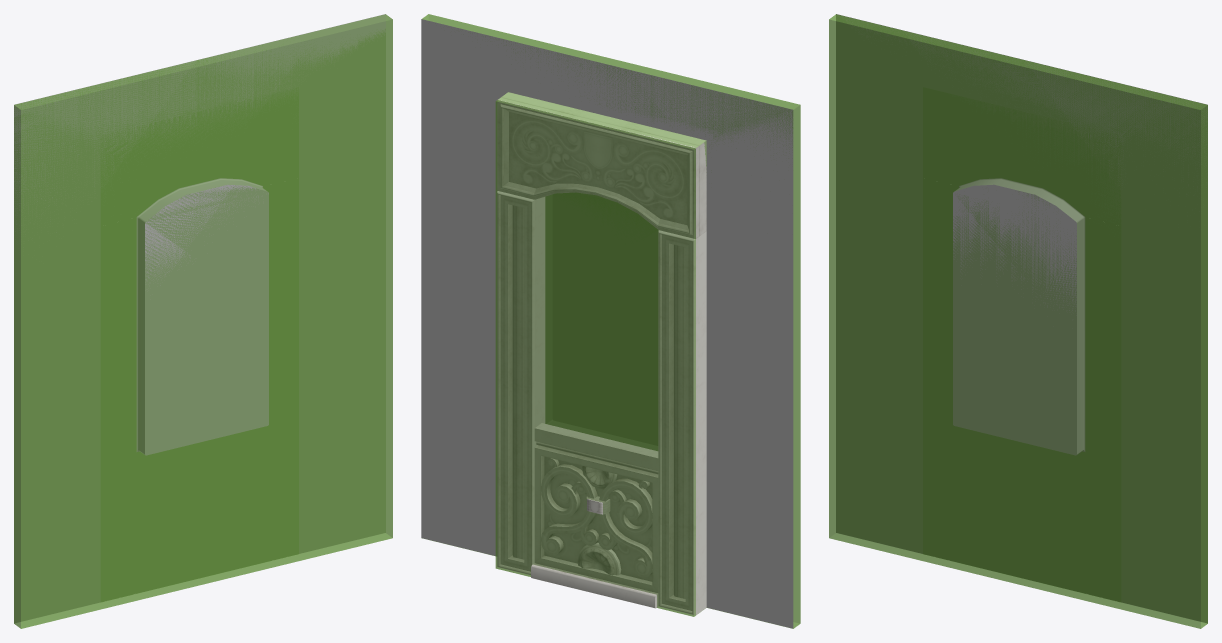
Rendered from F4_md_Wall_4x3_WS_01.fbx.
The picture shows the model from 3 angles, left to right: view 1: azimuth 30°, elevation 25°; view 2: azimuth 150°, elevation 25°; view 3: azimuth 330°, elevation 25°; orthographic projection.
Visible parts, largest first — view 1: F4_md_Wall_4x3_WS_01_col_02, F4_md_Wall_4x3_WS_01_LOD0, F4_md_Wall_4x3_WS_01_col_01; view 2: F4_md_Wall_4x3_WS_01_LOD0, F4_md_Wall_4x3_WS_01_col_01, F4_md_Wall_4x3_WS_01_col_02; view 3: F4_md_Wall_4x3_WS_01_col_02, F4_md_Wall_4x3_WS_01_LOD0, F4_md_Wall_4x3_WS_01_col_01.
Boxes of the visible parts, <box> form: F4_md_Wall_4x3_WS_01_col_02: <box>14,14,392,628</box>; F4_md_Wall_4x3_WS_01_LOD0: <box>14,14,385,622</box>; F4_md_Wall_4x3_WS_01_col_01: <box>101,96,297,569</box>; F4_md_Wall_4x3_WS_01_LOD0: <box>421,19,793,628</box>; F4_md_Wall_4x3_WS_01_col_01: <box>495,92,706,616</box>; F4_md_Wall_4x3_WS_01_col_02: <box>421,14,800,628</box>; F4_md_Wall_4x3_WS_01_col_02: <box>829,14,1207,628</box>; F4_md_Wall_4x3_WS_01_LOD0: <box>836,14,1207,622</box>; F4_md_Wall_4x3_WS_01_col_01: <box>923,88,1116,569</box>.
Size of what is drawn, in the model's own units: 300 by 400 by 30.
